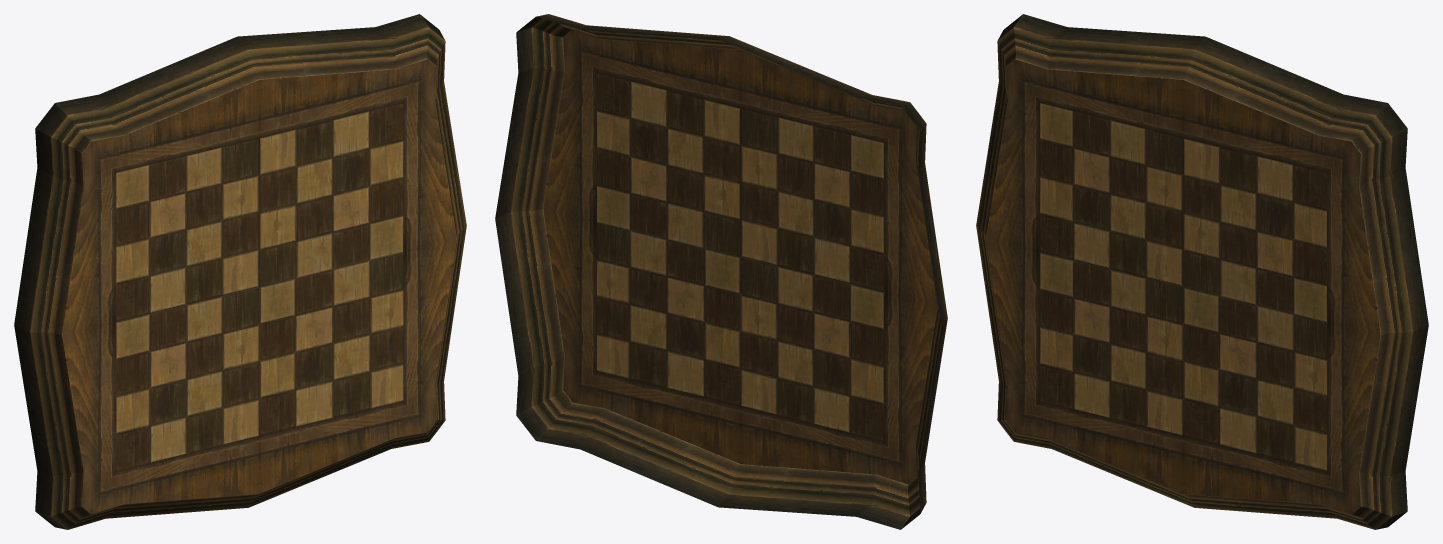
File: juqing_fuben_544_xiangqi_01.obj
3 views of the same model, side by side, from view 1: azimuth 30°, elevation 25°; view 2: azimuth 150°, elevation 25°; view 3: azimuth 330°, elevation 25° (orthographic).
Parts seen in each view (by area): view 1: juqing_fuben_544_xiangqi_01; view 2: juqing_fuben_544_xiangqi_01; view 3: juqing_fuben_544_xiangqi_01.
Boxes of the visible parts, x1,y1,x2,y2 form: juqing_fuben_544_xiangqi_01: [14, 14, 466, 529]; juqing_fuben_544_xiangqi_01: [495, 14, 947, 529]; juqing_fuben_544_xiangqi_01: [976, 14, 1428, 529].
Size of the model in its own units: 1470 by 1473 by 127.
1 material, 1 textured.
